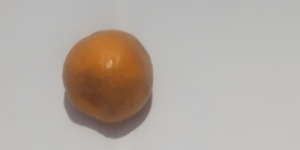BAD: (61, 28, 155, 127)
